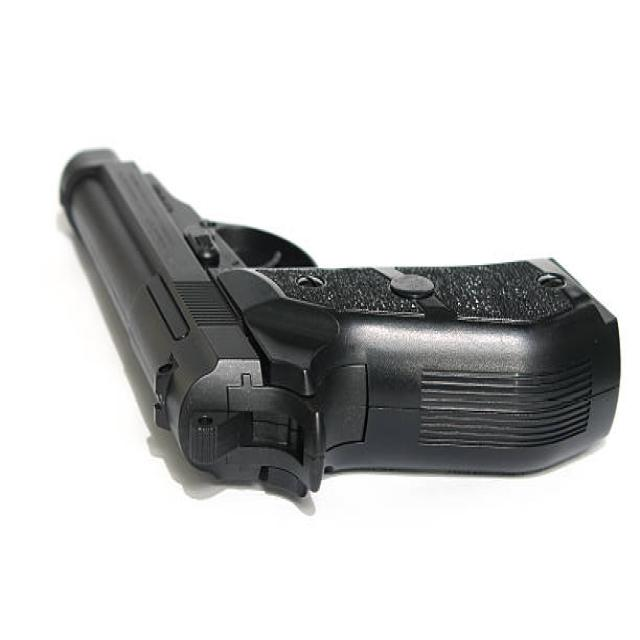pistol: (59, 132, 622, 509)
